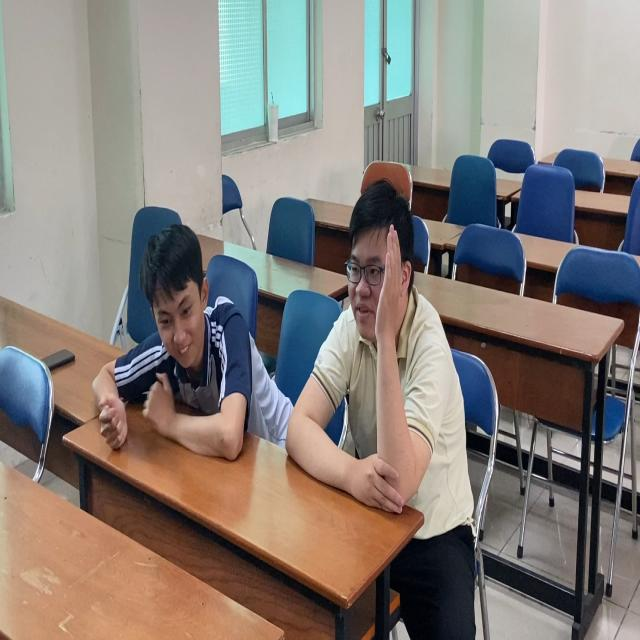raise_hand: (309, 173, 449, 512)
